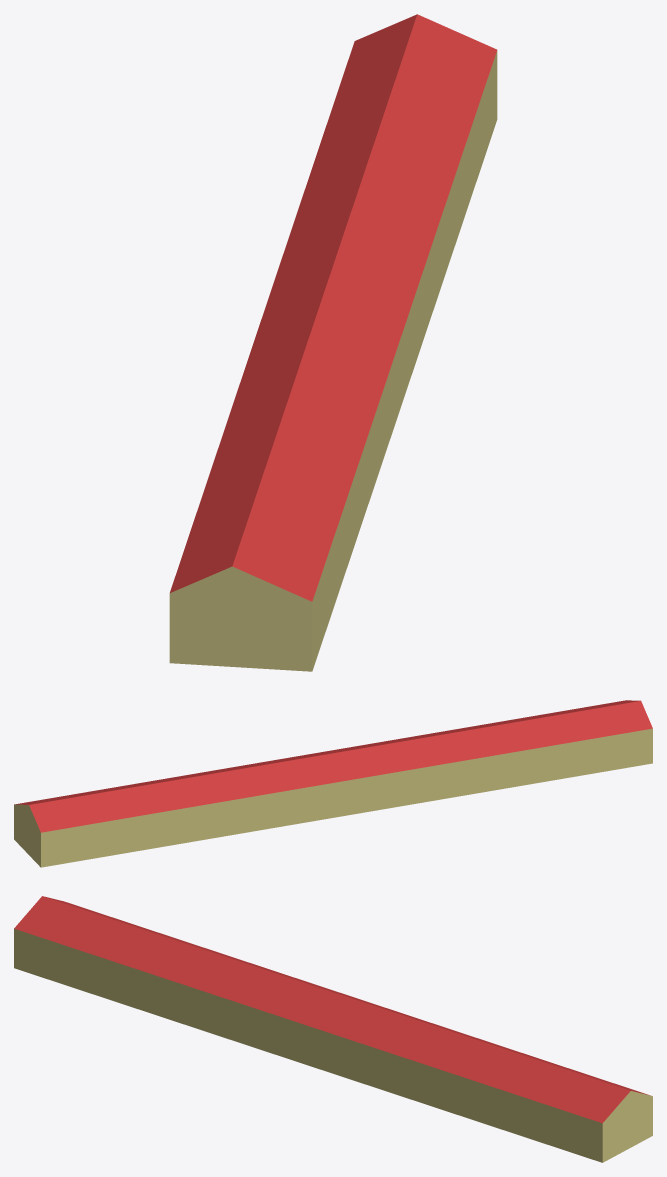
The picture shows the model from 3 angles, top to bottom: view 1: azimuth 30°, elevation 25°; view 2: azimuth 150°, elevation 25°; view 3: azimuth 270°, elevation 25°; orthographic projection. The views are drawn at different scales.
Bounding box in the file's own units: 52.8 × 64.24 × 6.32.
